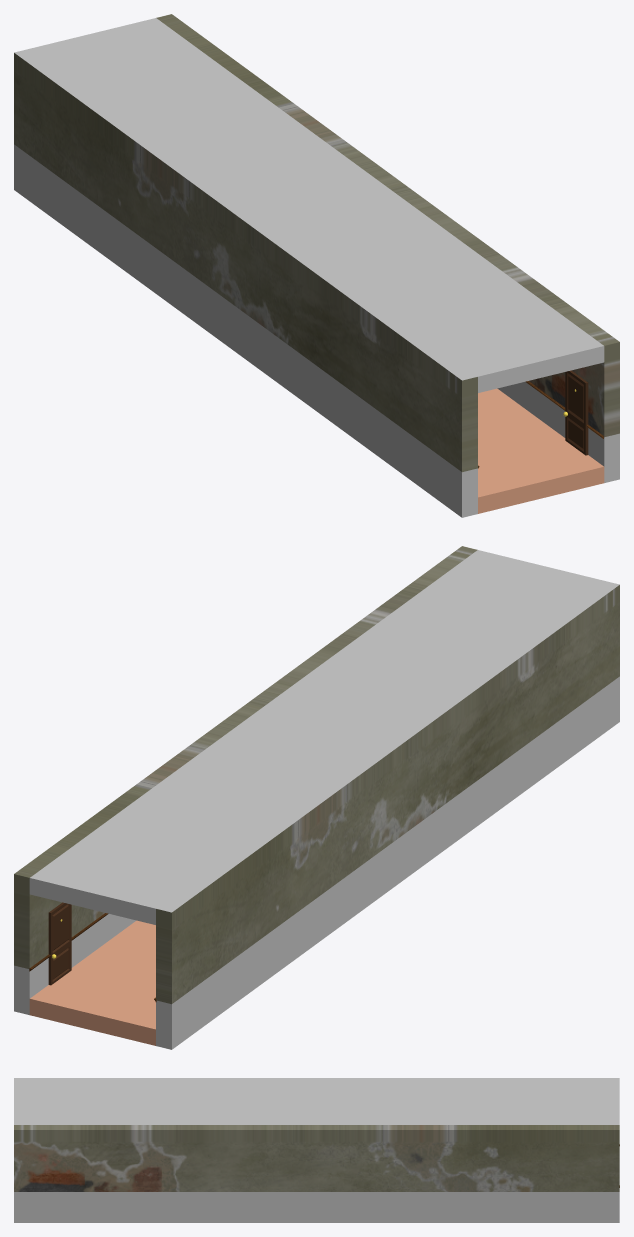
The model's file is 3duzkoridor.fbx.
3 views of the same model, one above another, from view 1: azimuth 30°, elevation 25°; view 2: azimuth 150°, elevation 25°; view 3: azimuth 270°, elevation 25° (orthographic). The views are drawn at different scales.
Parts seen in each view (by area): view 1: düzkoridor; view 2: düzkoridor; view 3: düzkoridor.
Boxes of the visible parts, <box> form: düzkoridor: <box>14,14,619,517</box>; düzkoridor: <box>14,546,619,1049</box>; düzkoridor: <box>14,1078,619,1222</box>.
Bounding box in the file's own units: 500 × 416 × 2459.
